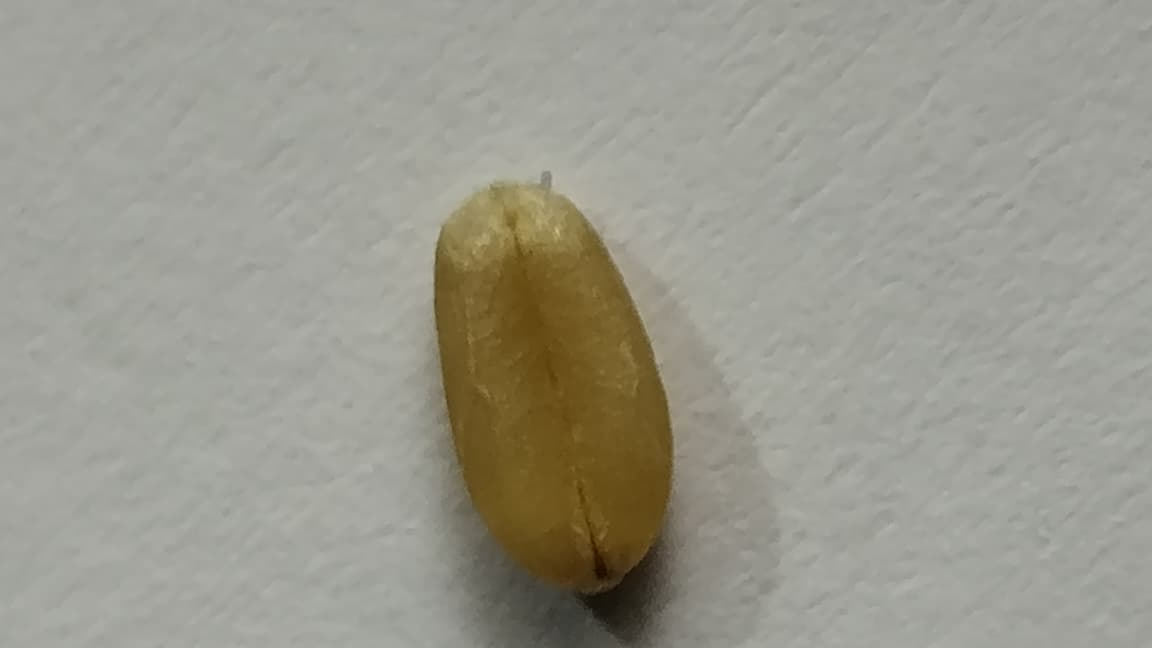healthy: (435, 175, 672, 591)
